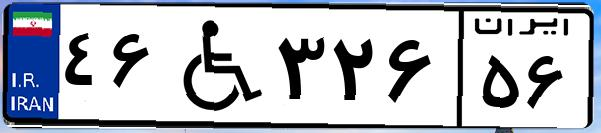2: (330, 28, 385, 110)
3: (270, 28, 330, 110)
4: (57, 26, 110, 100)
5: (475, 38, 525, 113)
6: (385, 28, 445, 110), (525, 38, 570, 115), (110, 28, 158, 98)
ژ (معلولین و جانبازان): (158, 12, 270, 120)
